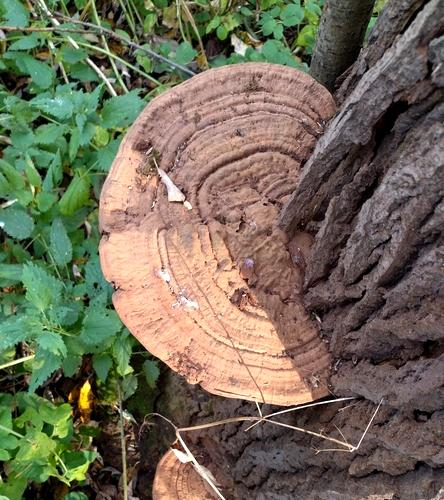Ganoderma - Fruit Body: (94, 62, 345, 414)
